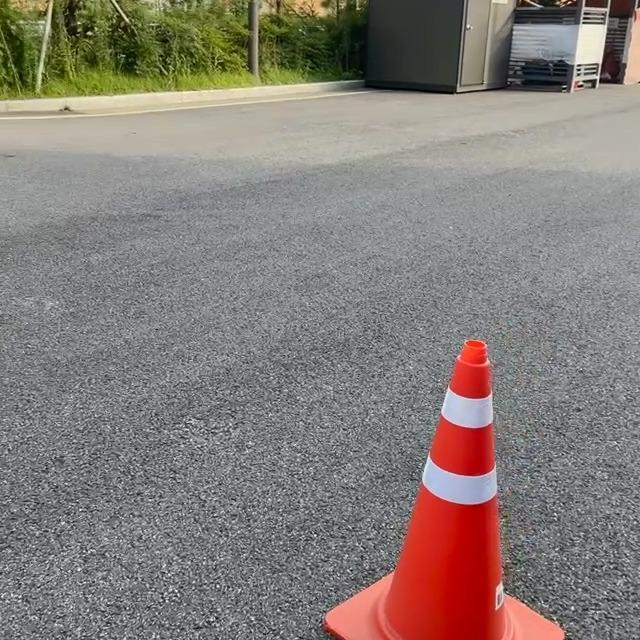fallen_object: (340, 289, 585, 640)
